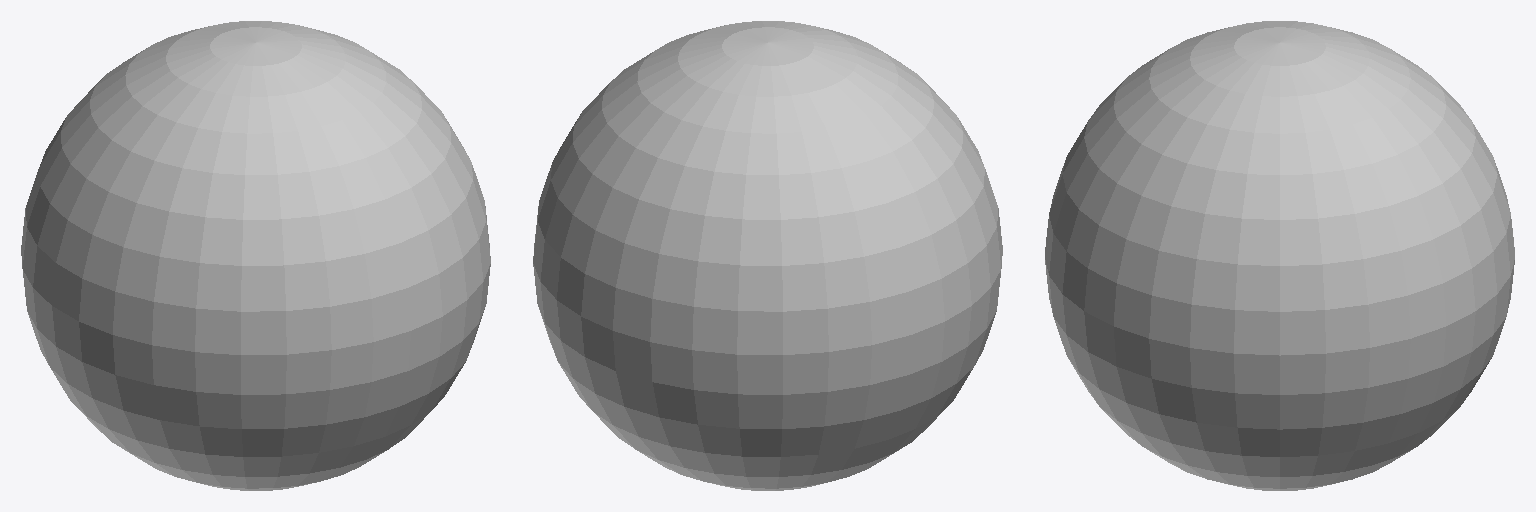
The model's file is pluto.obj.
3 renders of one model, left to right at view 1: azimuth 30°, elevation 25°; view 2: azimuth 150°, elevation 25°; view 3: azimuth 270°, elevation 25°, orthographic.
Visible parts, largest first — view 1: Sphere.005; view 2: Sphere.005; view 3: Sphere.005.
Boxes of the visible parts, <box> form: Sphere.005: <box>21,21,490,490</box>; Sphere.005: <box>533,21,1002,490</box>; Sphere.005: <box>1045,21,1514,490</box>.
Size of the model in its own units: 0.3227 by 0.3227 by 0.3227.